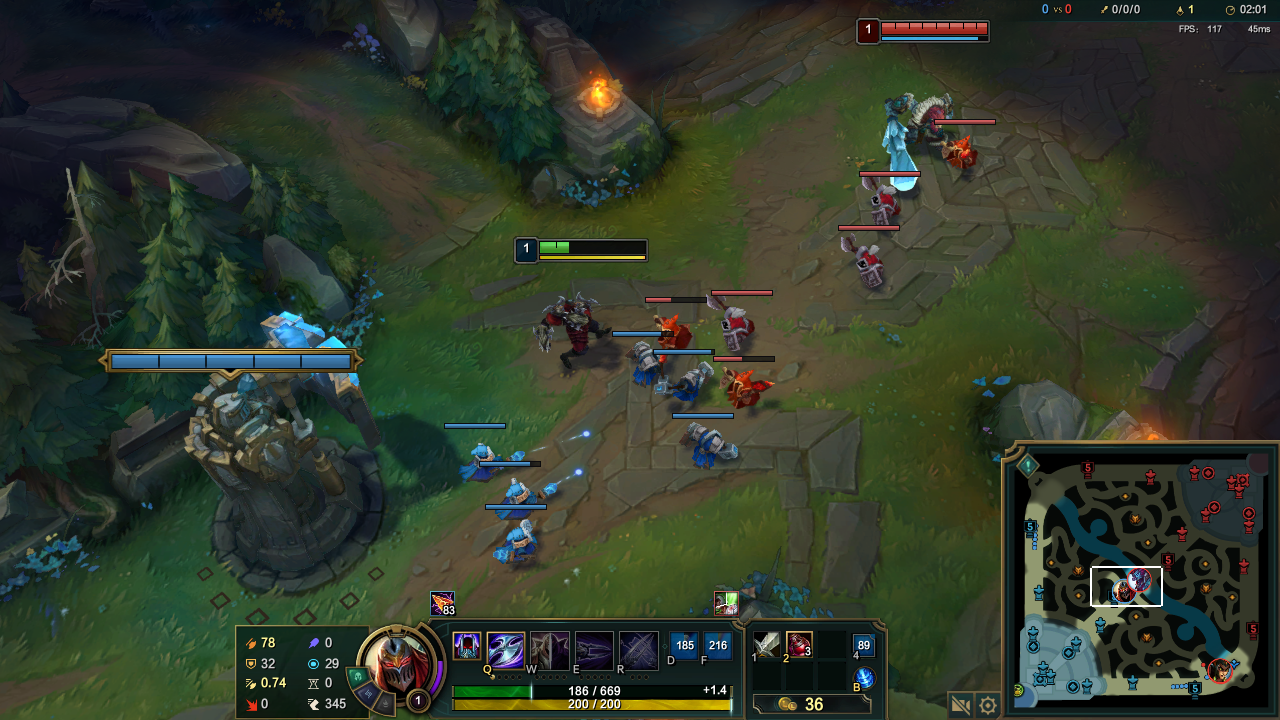DFYX: (880, 18, 989, 34)
Yita: (1186, 672, 1203, 698)
